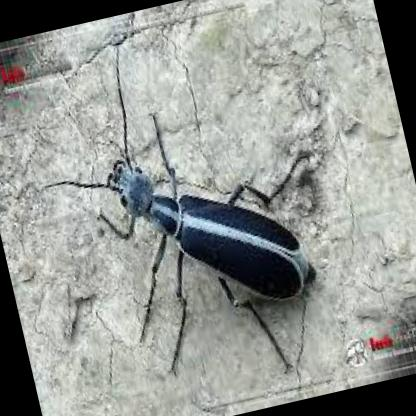blister beetle: (44, 52, 315, 375)
